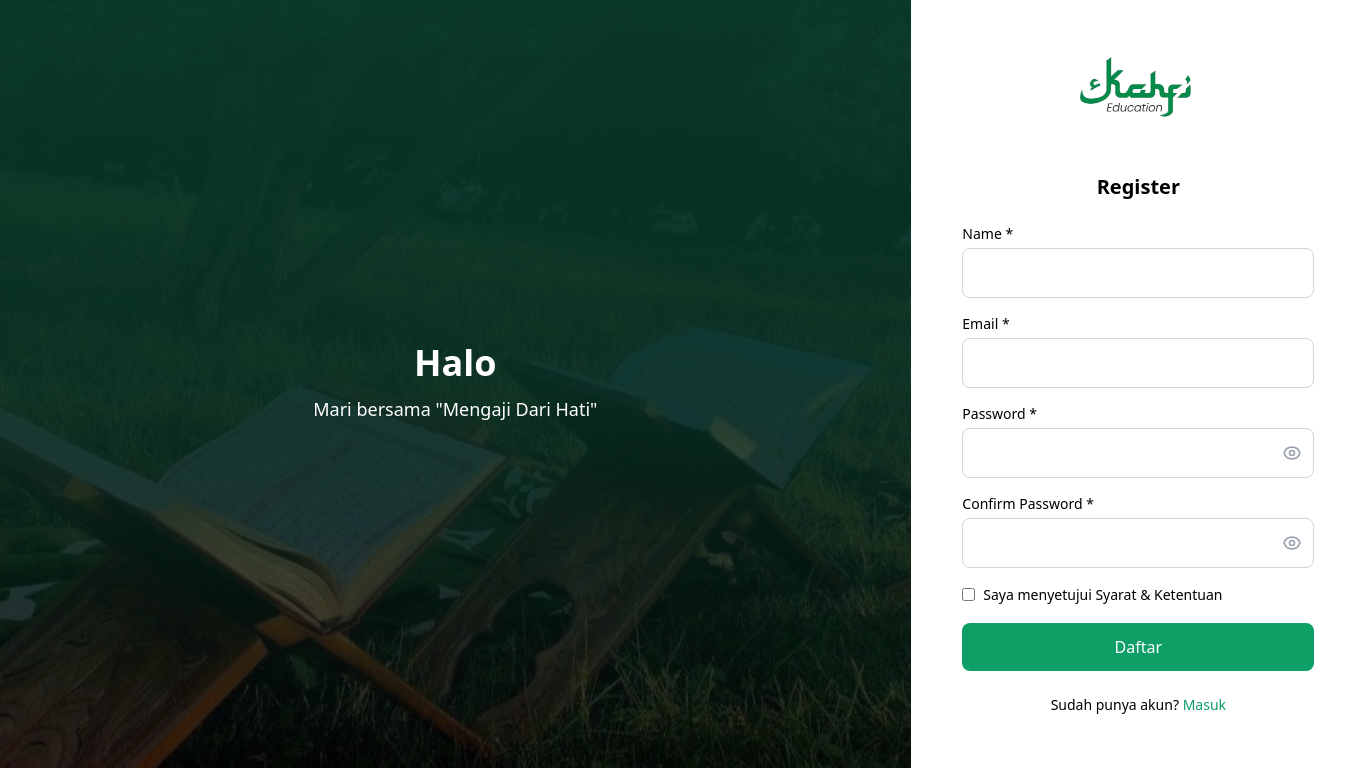
Test: Register Feature Test › Validasi error ketika format email salah
Type "User" into the field below "Name *" at (1138, 273), box x1=962 y1=248 x2=1314 y2=298
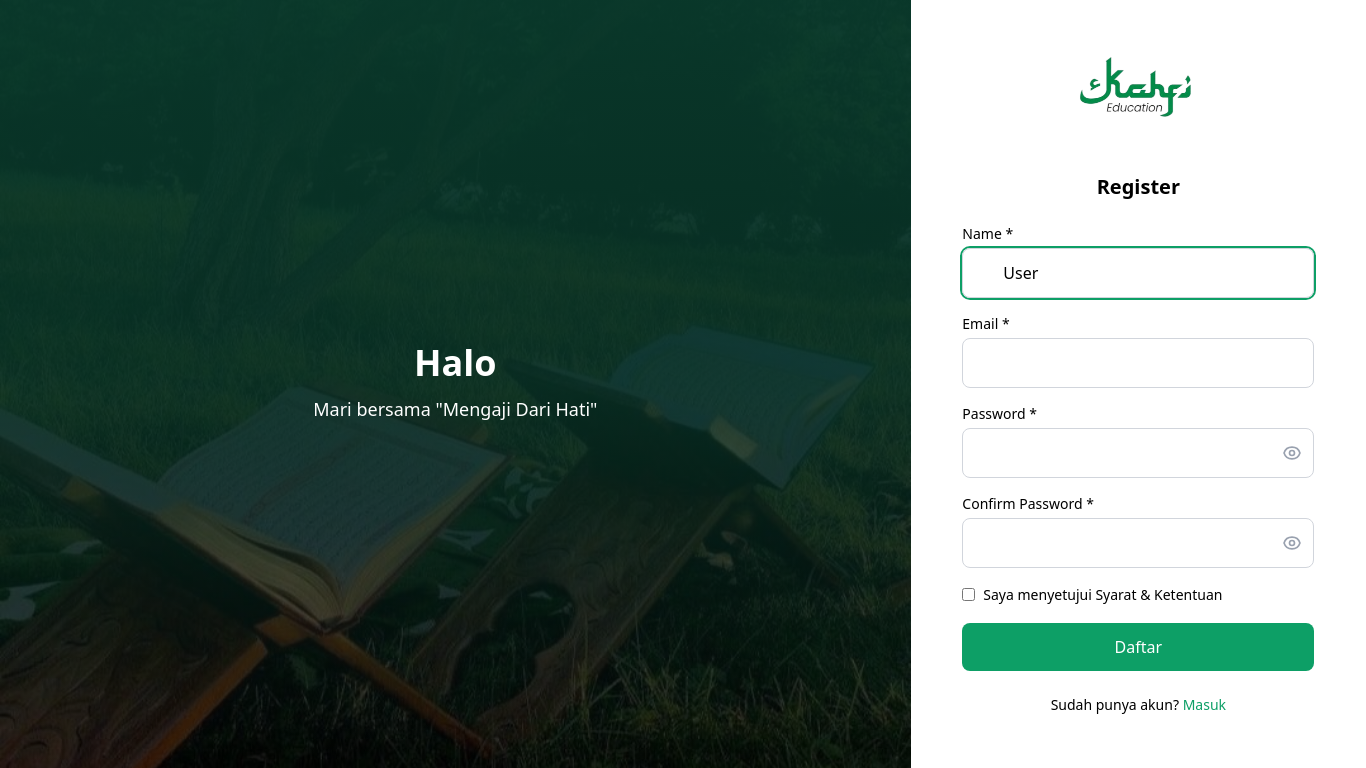
Type "salah-email" into the field below "Email *" at (1138, 363), box x1=962 y1=338 x2=1314 y2=388
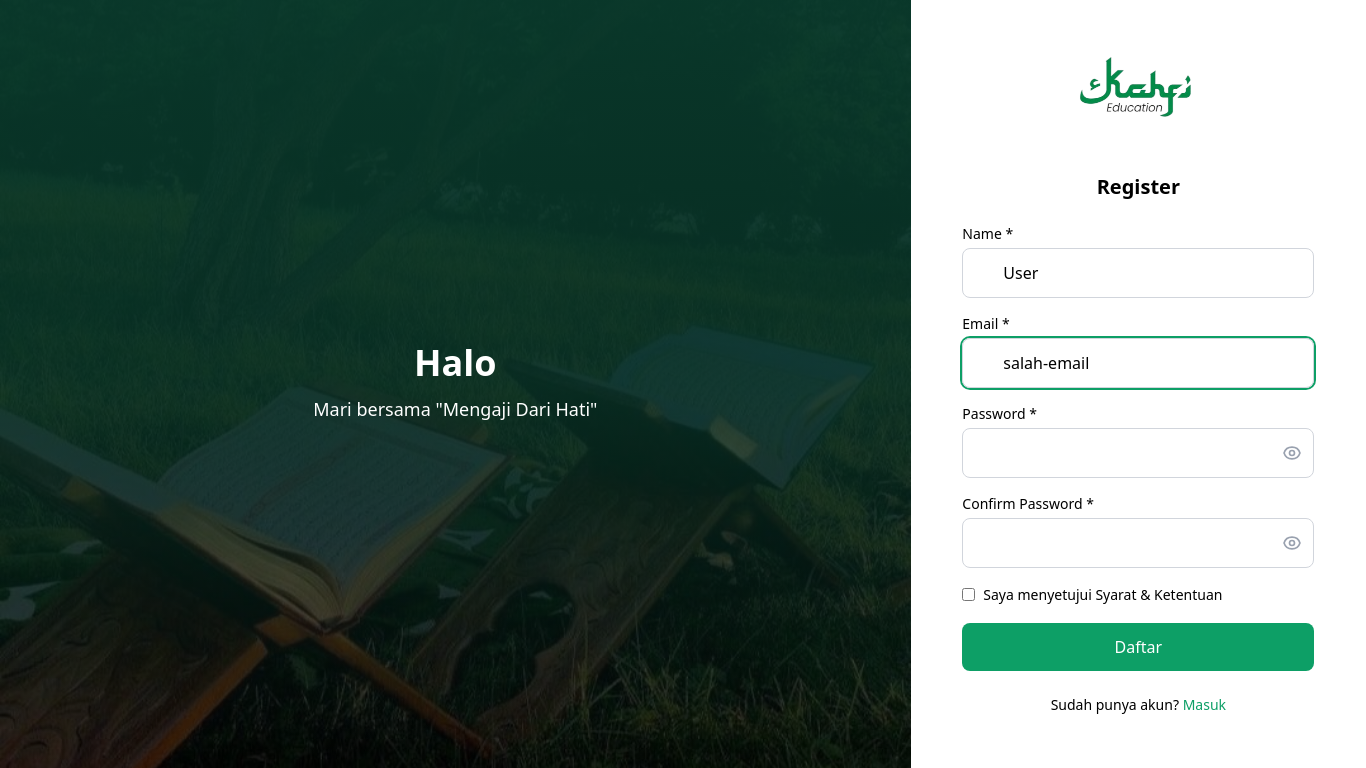
Type "Abcdef1!" into the 1st password field at (1138, 453), box x1=962 y1=428 x2=1314 y2=478
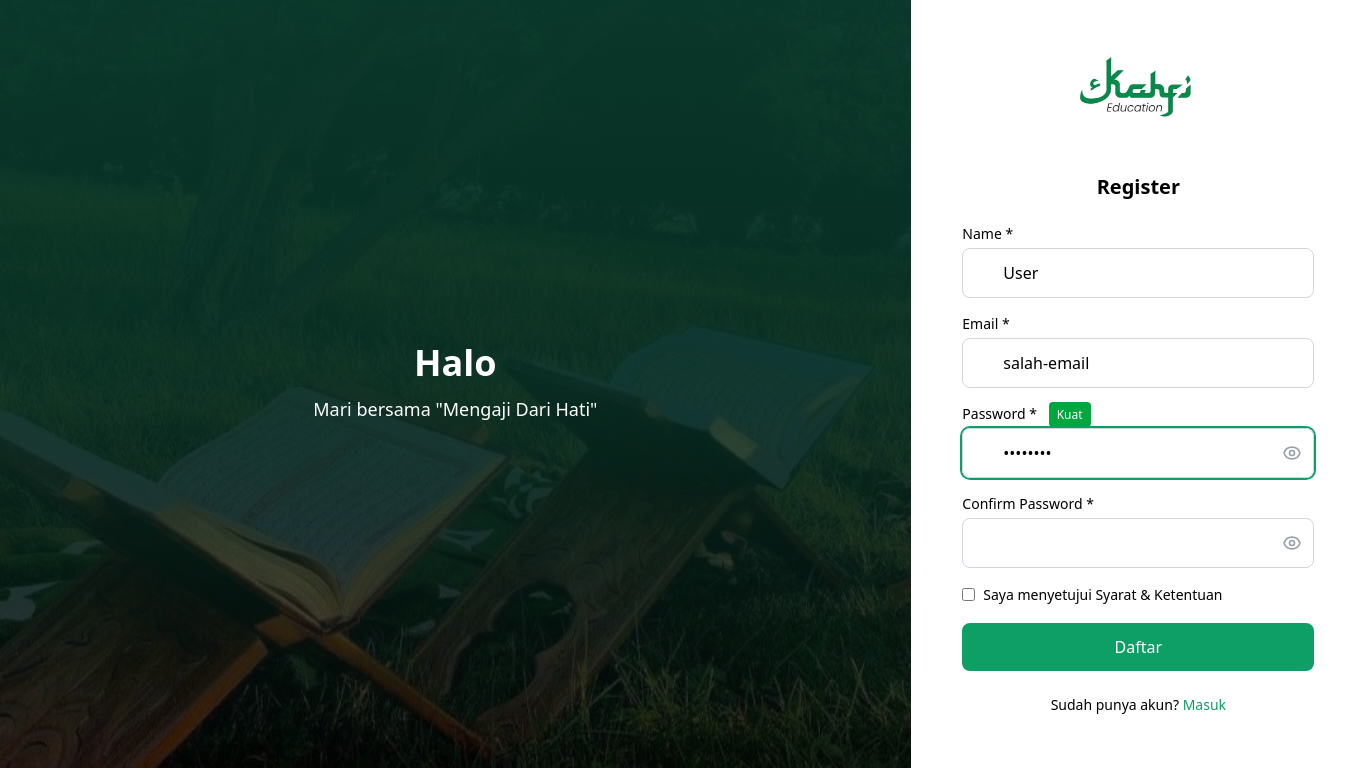
Type "Abcdef1!" into the password field below "Confirm Password *" at (1138, 543), box x1=962 y1=518 x2=1314 y2=568
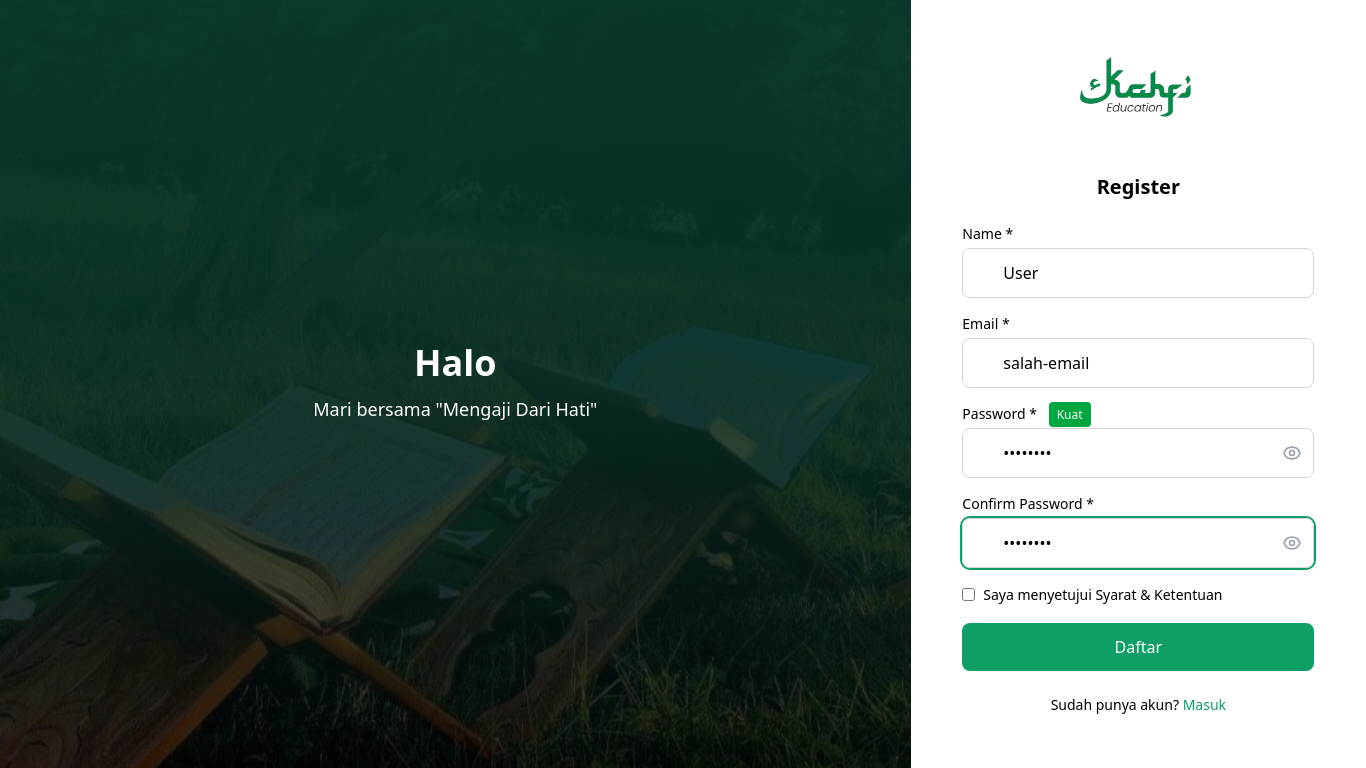
Check the checkbox named "agree" at (969, 595), box x1=962 y1=588 x2=975 y2=601
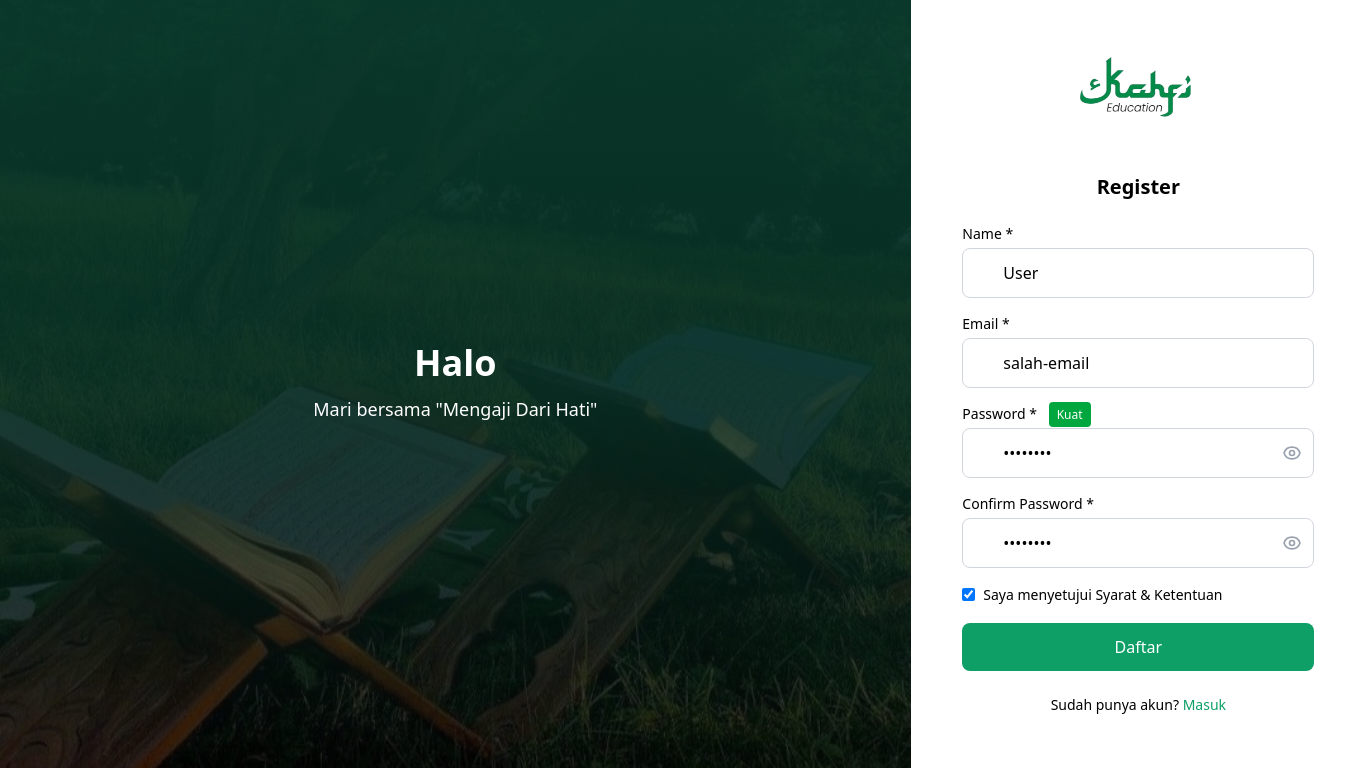
expect the submit button is enabled: met
Click the submit button at (1138, 647), box x1=962 y1=623 x2=1314 y2=671
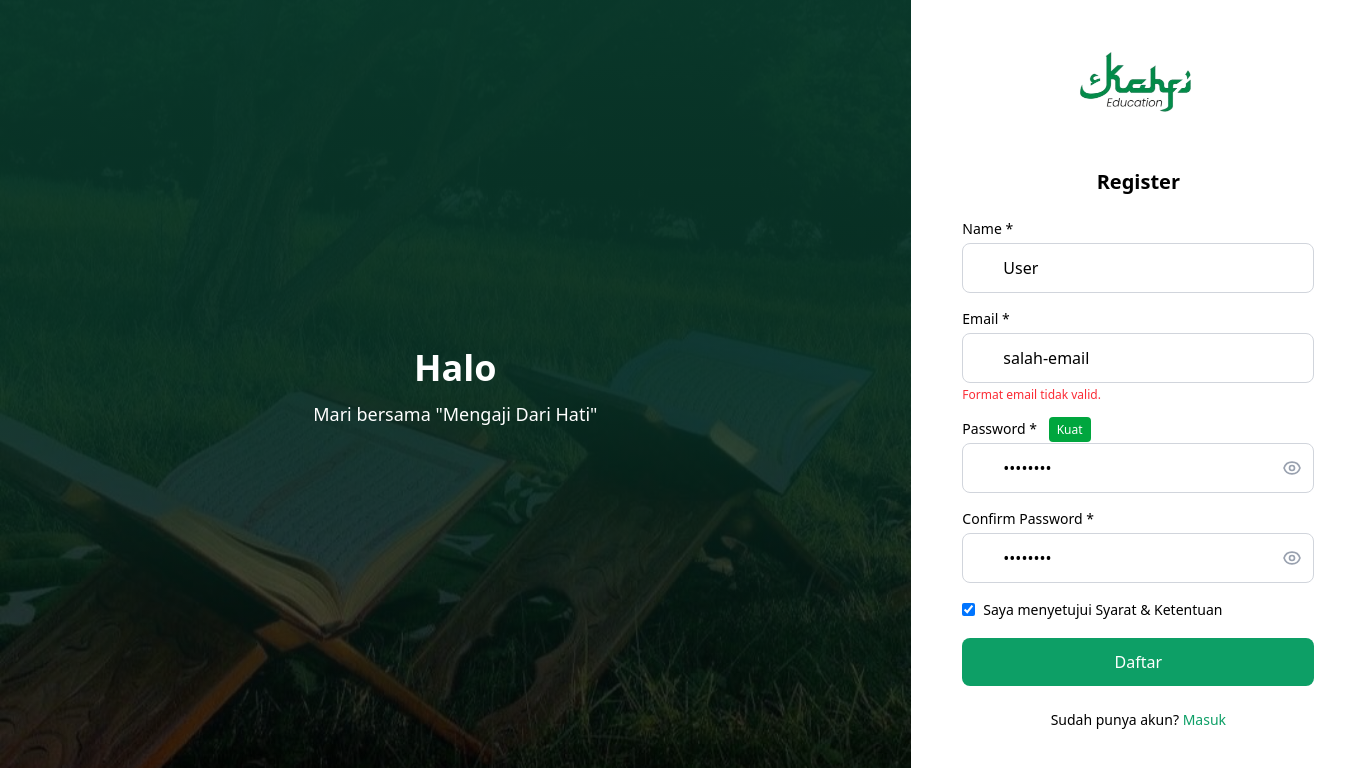
expect the text "Format email tidak valid." is shown: met, box x1=962 y1=386 x2=1101 y2=403
